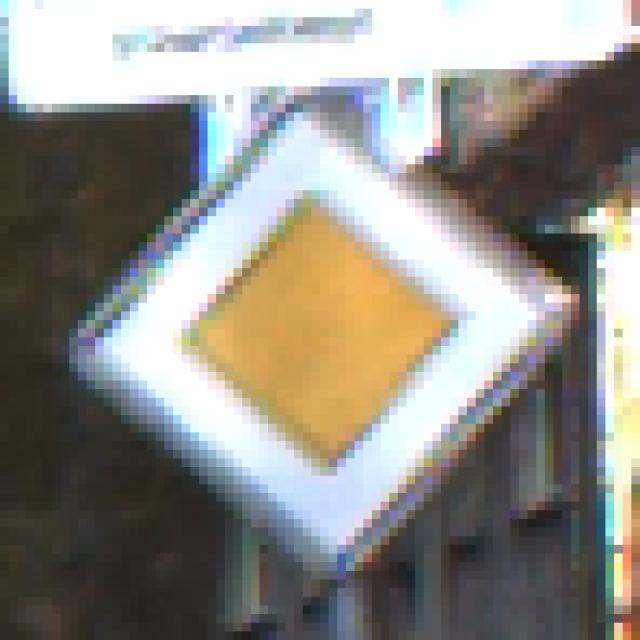Main Road: (62, 62, 589, 589)
